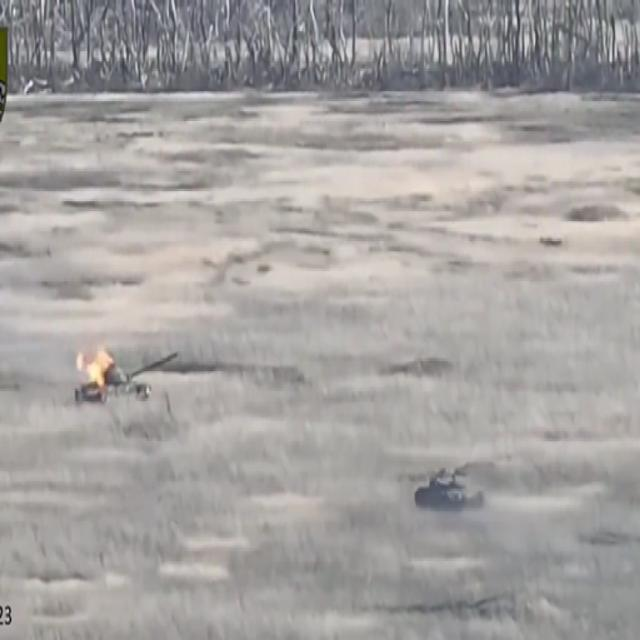TANK: (69, 347, 176, 411), (409, 460, 486, 522)
